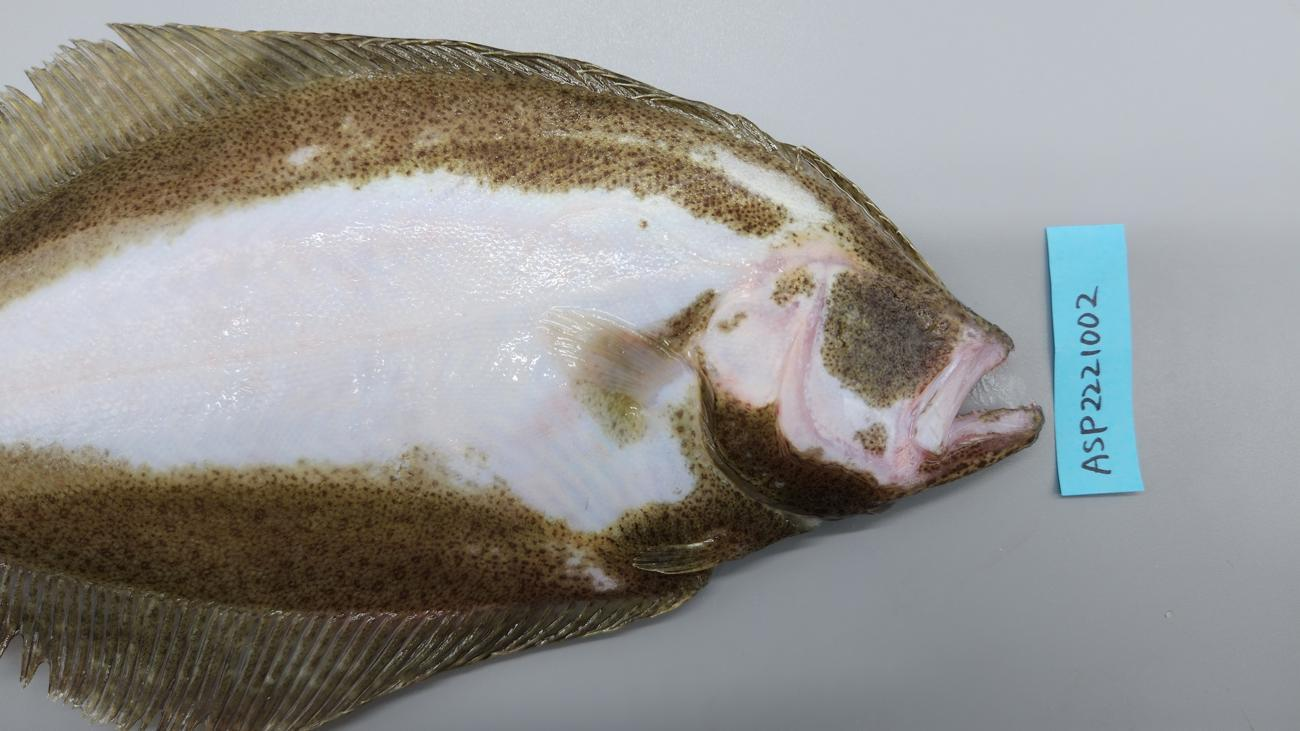SPDYH: (662, 506, 791, 559)
